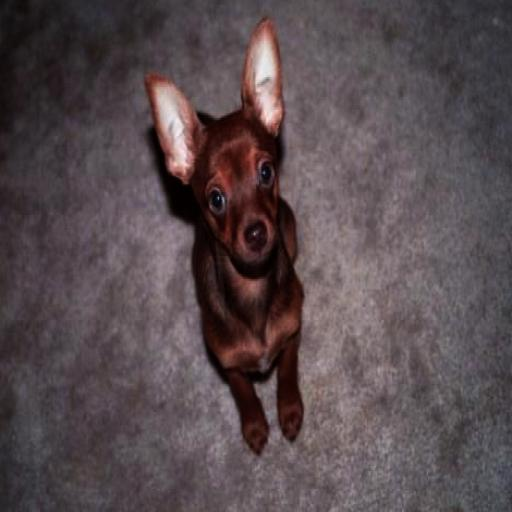dog_face: (144, 22, 278, 267)
